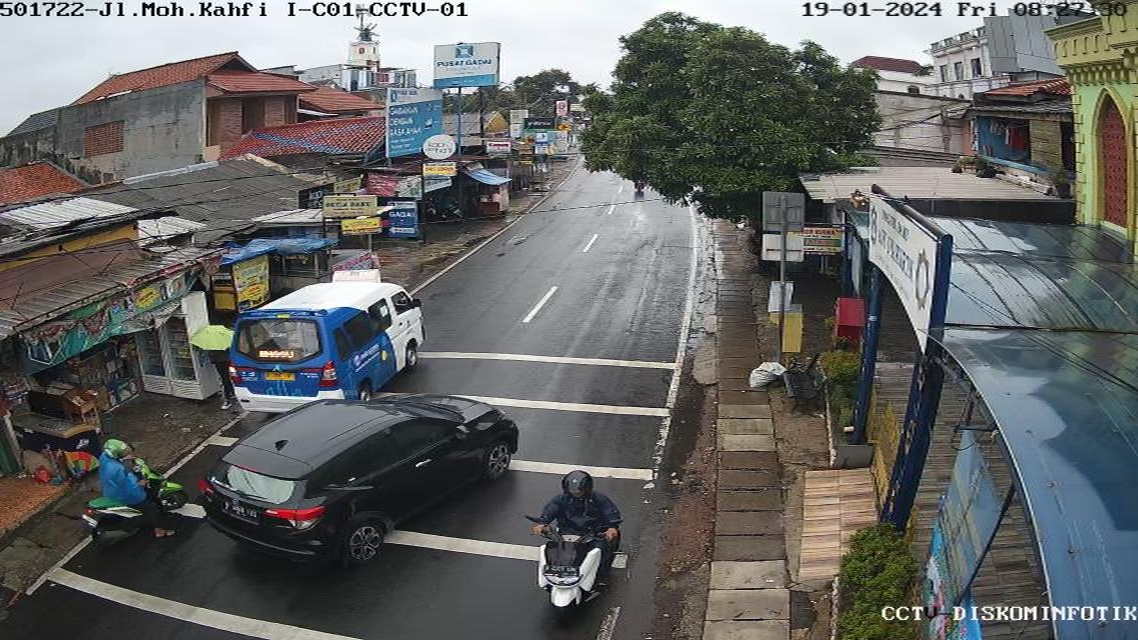Gerobak: (204, 259, 276, 312), (452, 181, 523, 220), (272, 251, 331, 295)
